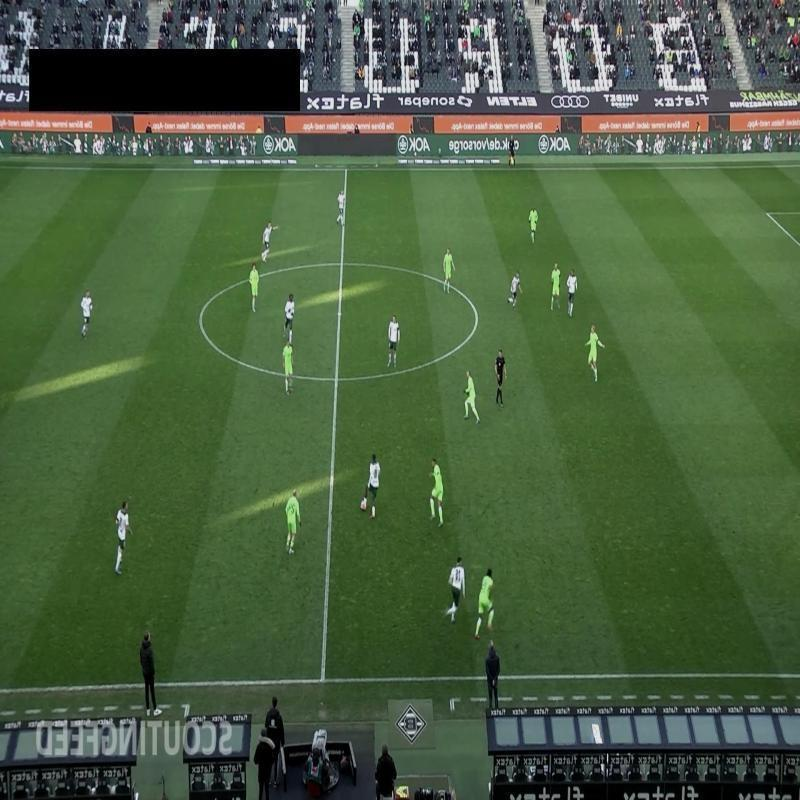13: (339, 162, 353, 176)
14: (336, 255, 349, 272)
15: (330, 371, 344, 387)
16: (314, 672, 330, 690)
9: (760, 204, 775, 222)
c: (469, 307, 486, 327), (193, 312, 207, 326)
